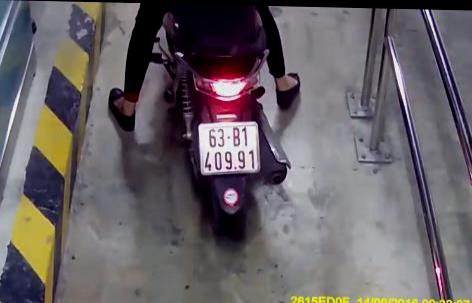License_Plate: (192, 116, 264, 182)
